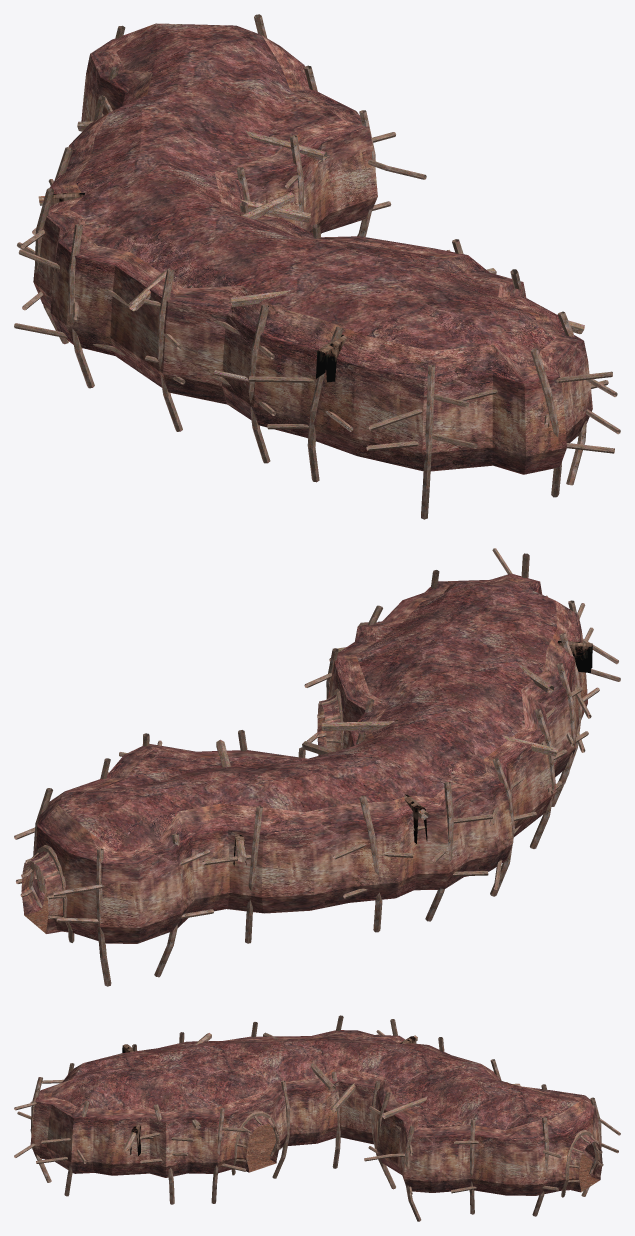
Rendered from thm_dath_night_sister_stronghold_r6_mesh_r6.fbx.
3 renders of one model, top to bottom at view 1: azimuth 30°, elevation 25°; view 2: azimuth 150°, elevation 25°; view 3: azimuth 270°, elevation 25°, orthographic. The views are drawn at different scales.
Visible parts, largest first — view 1: mesh_node; view 2: mesh_node; view 3: mesh_node.
Boxes of the visible parts, x1,y1,x2,y2 form: mesh_node: (14,14,620,519); mesh_node: (14,548,620,986); mesh_node: (14,1015,620,1221).
Size of the model in its own units: 17.53 by 7.32 by 36.91.
